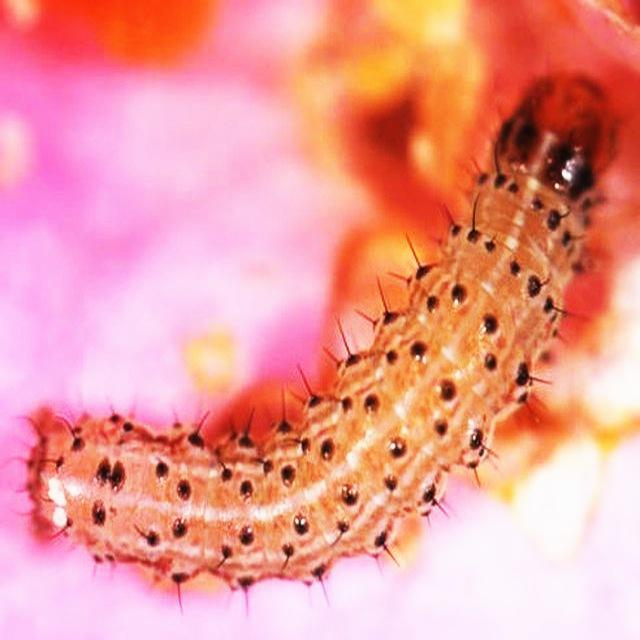Plaga: (5, 66, 622, 610)
